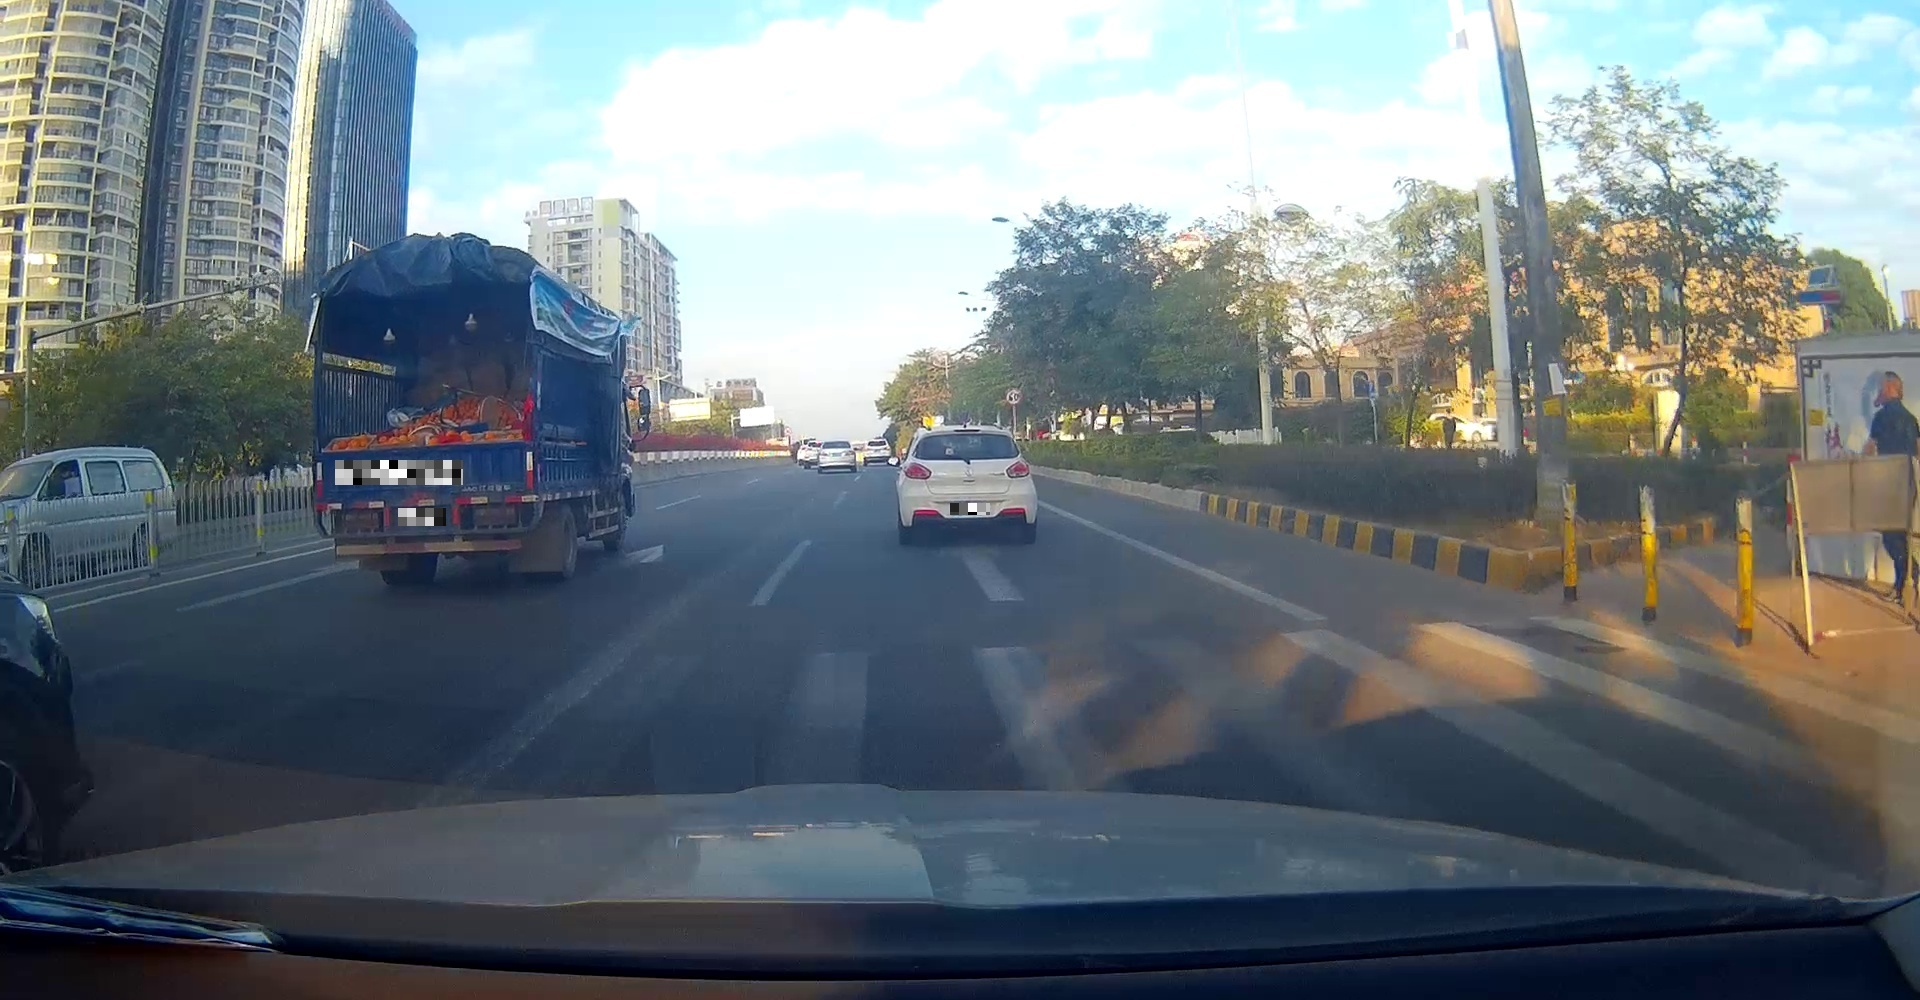L_light: (342, 511, 378, 529), (903, 462, 932, 480), (818, 451, 828, 456)
R_light: (472, 506, 517, 525), (1006, 459, 1030, 478), (844, 451, 856, 456)
T_light: (411, 266, 444, 273), (956, 434, 975, 438), (832, 442, 838, 444)
day-no: (312, 232, 536, 586), (902, 425, 1037, 544), (818, 440, 857, 472)
plate_1: (335, 459, 463, 485)
plate_2: (397, 508, 446, 525)
plate_3: (950, 503, 990, 515)
